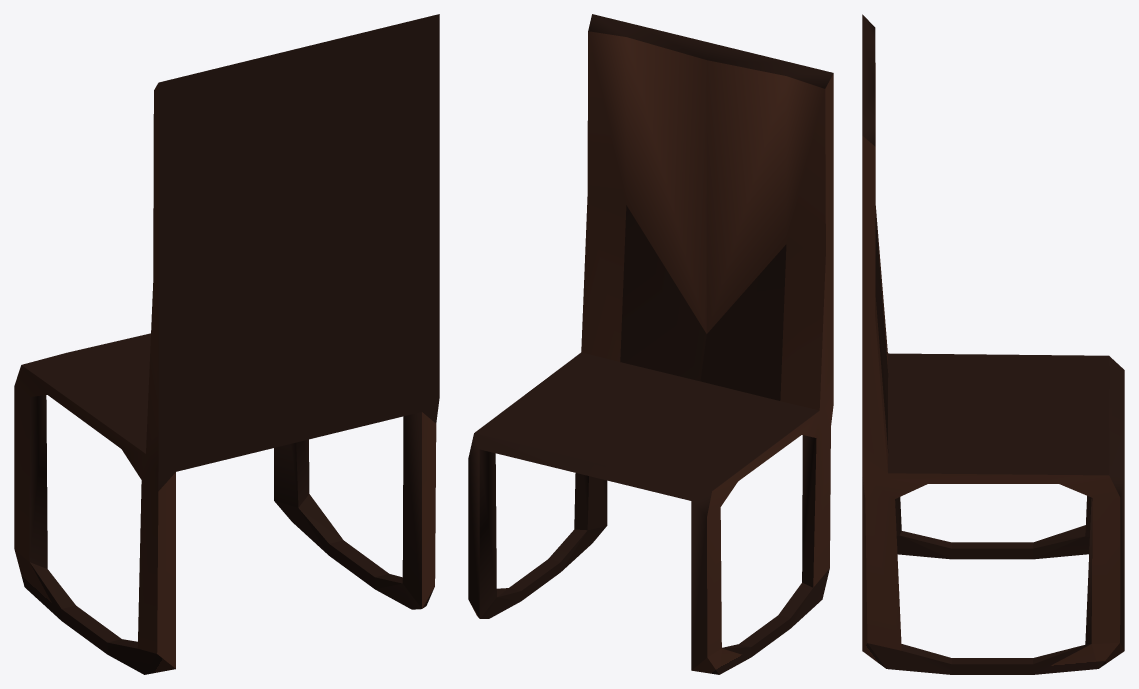
Rendered from chair.fbx.
The picture shows the model from 3 angles, left to right: view 1: azimuth 30°, elevation 25°; view 2: azimuth 150°, elevation 25°; view 3: azimuth 270°, elevation 25°; orthographic projection. The views are drawn at different scales.
Parts seen in each view (by area): view 1: Chair; view 2: Chair; view 3: Chair.
Part boxes in pixels (x1,y1,x2,y2): Chair: (14, 14, 439, 674); Chair: (468, 14, 833, 674); Chair: (862, 14, 1124, 674).
Bounding box in the file's own units: 298 × 614 × 271.
Materials: 1 (1 with a texture image).
